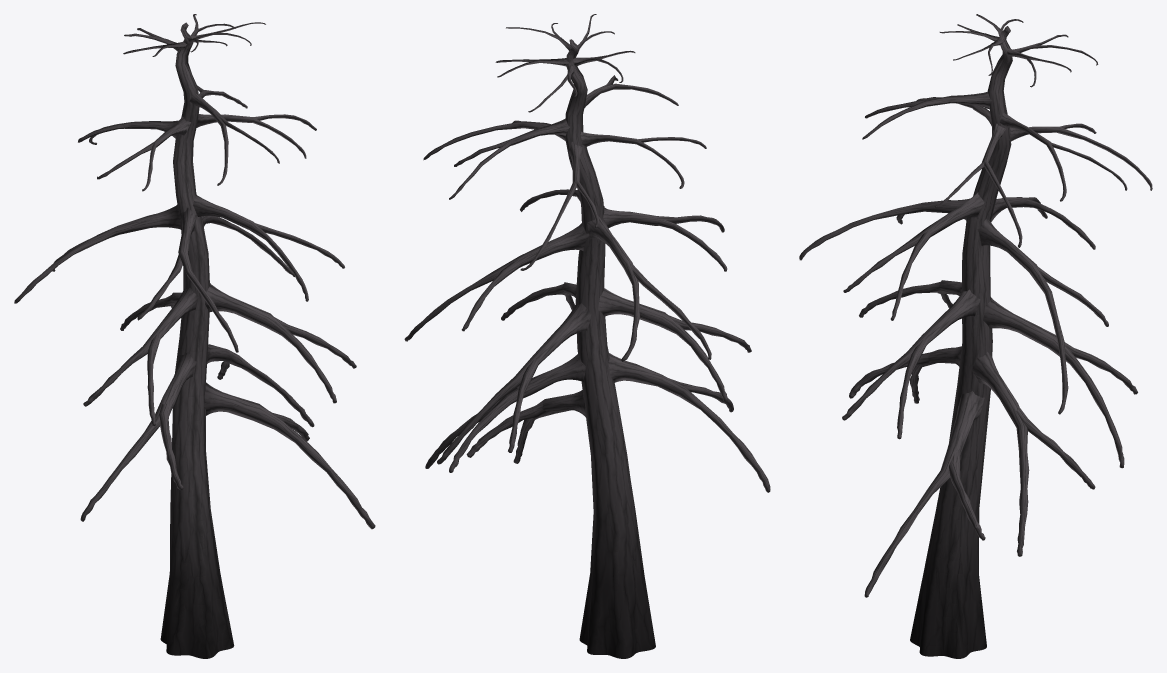
The model's file is DeadTree_5.glb.
3 renders of one model, left to right at view 1: azimuth 30°, elevation 25°; view 2: azimuth 150°, elevation 25°; view 3: azimuth 270°, elevation 25°, orthographic. The views are drawn at different scales.
Visible parts, largest first — view 1: DeadTree_5; view 2: DeadTree_5; view 3: DeadTree_5.
Part boxes in pixels (x1=…): DeadTree_5: x1=14, y1=14, x2=375, y2=658; DeadTree_5: x1=404, y1=14, x2=770, y2=658; DeadTree_5: x1=799, y1=14, x2=1152, y2=658.
Bounding box in the file's own units: 8.36 × 16.44 × 8.41.
1 material, 1 textured.
